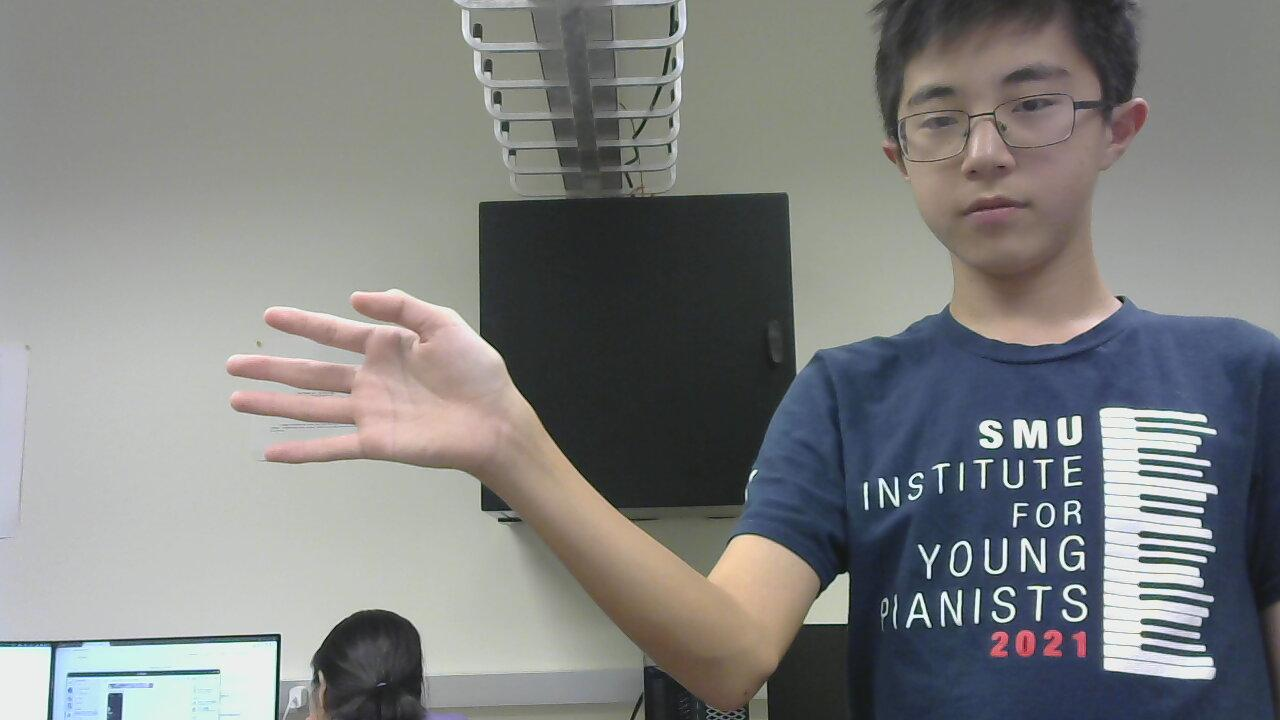hands: (213, 279, 537, 493)
